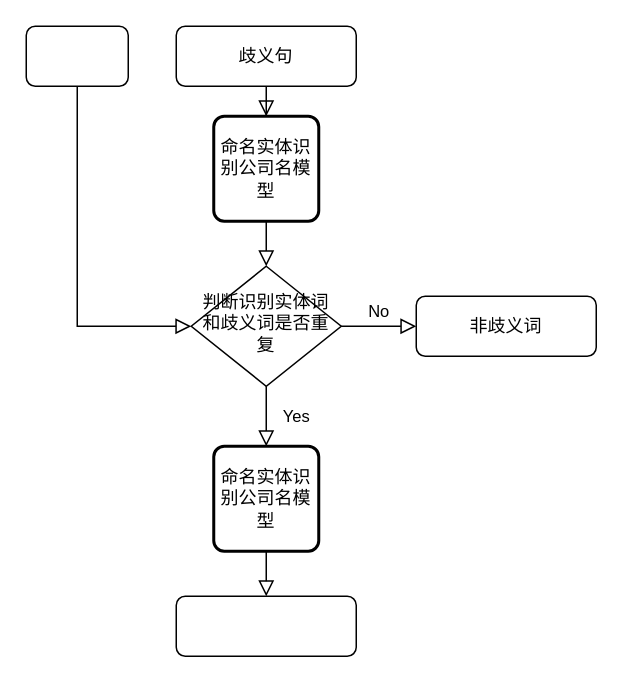
Some shapes in this 623 by 683 pixel diagram are drawn without their labels. The centre of each missing label's shape, as x and y in pixels:
歧义词: the point at 76,55
歧义词类型: the point at 265,625
